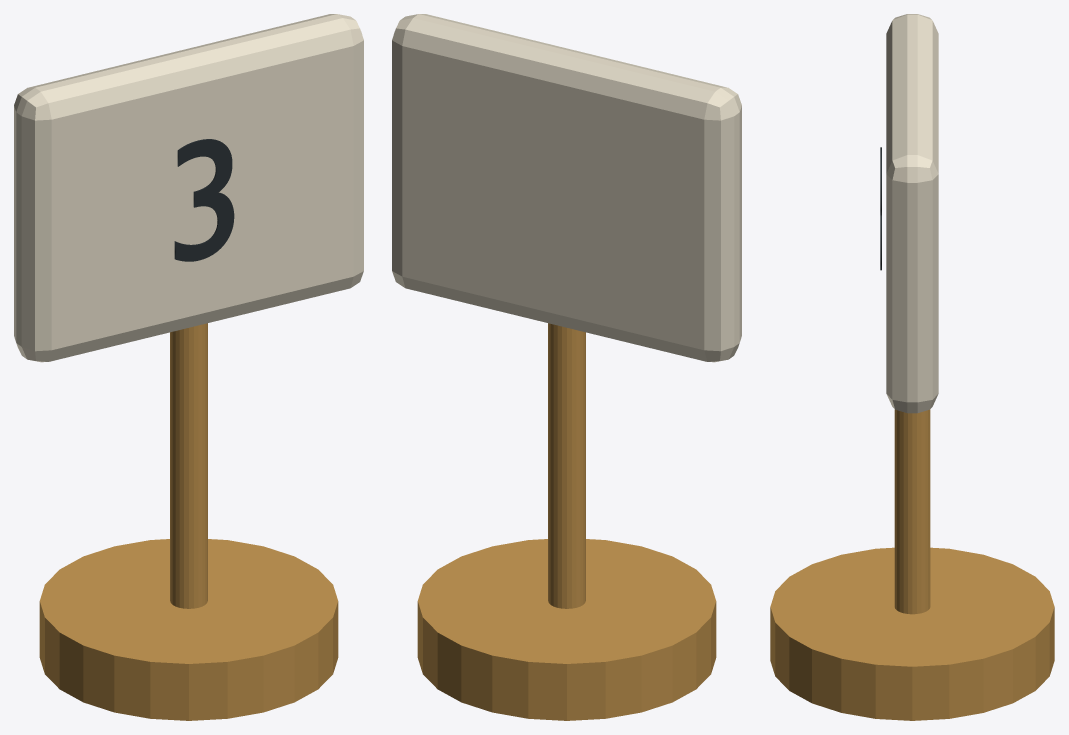
The model's file is table_sign_3.glb.
The picture shows the model from 3 angles, left to right: view 1: azimuth 30°, elevation 25°; view 2: azimuth 150°, elevation 25°; view 3: azimuth 270°, elevation 25°; orthographic projection. The views are drawn at different scales.
Visible parts, largest first — view 1: table_sign_3; view 2: table_sign_3; view 3: table_sign_3.
Boxes of the visible parts, bbox=[...] form: table_sign_3: bbox=[14, 14, 363, 720]; table_sign_3: bbox=[392, 14, 741, 720]; table_sign_3: bbox=[770, 14, 1054, 720].
Size of the model in its own units: 0.25 by 0.425 by 0.19.
